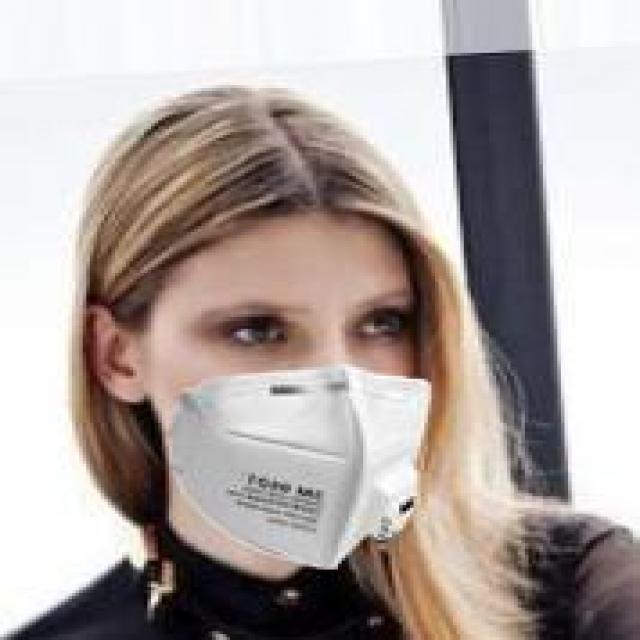mask: (68, 50, 471, 561)
